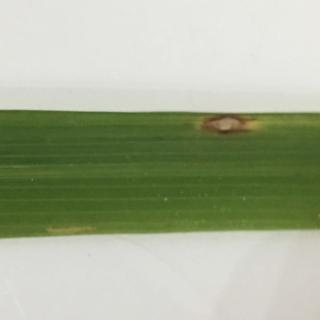Blast: (192, 99, 266, 150)
